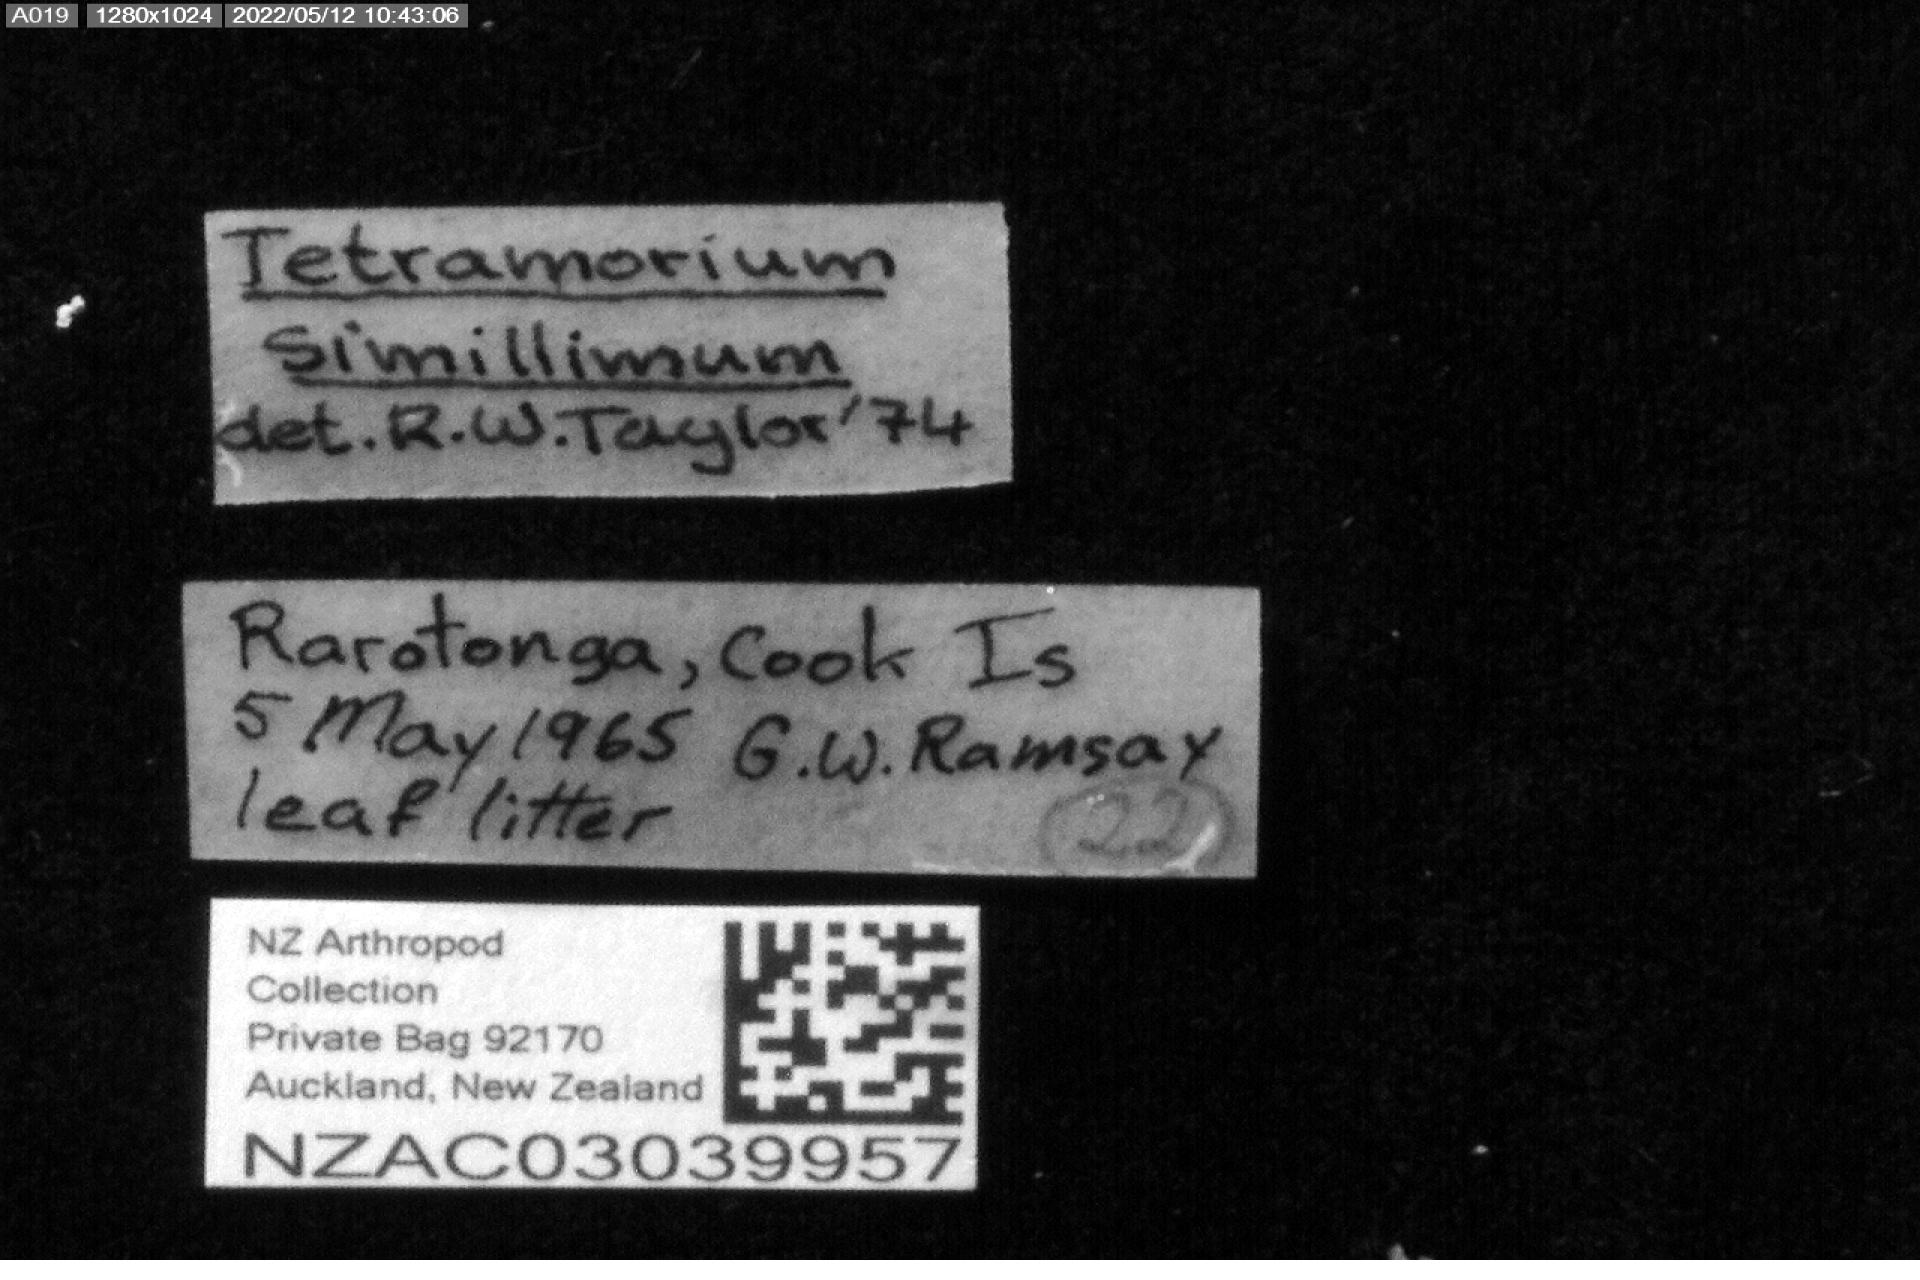hand_label: (184, 581, 1260, 879), (206, 203, 1013, 503)
typed_label: (206, 900, 979, 1190)
